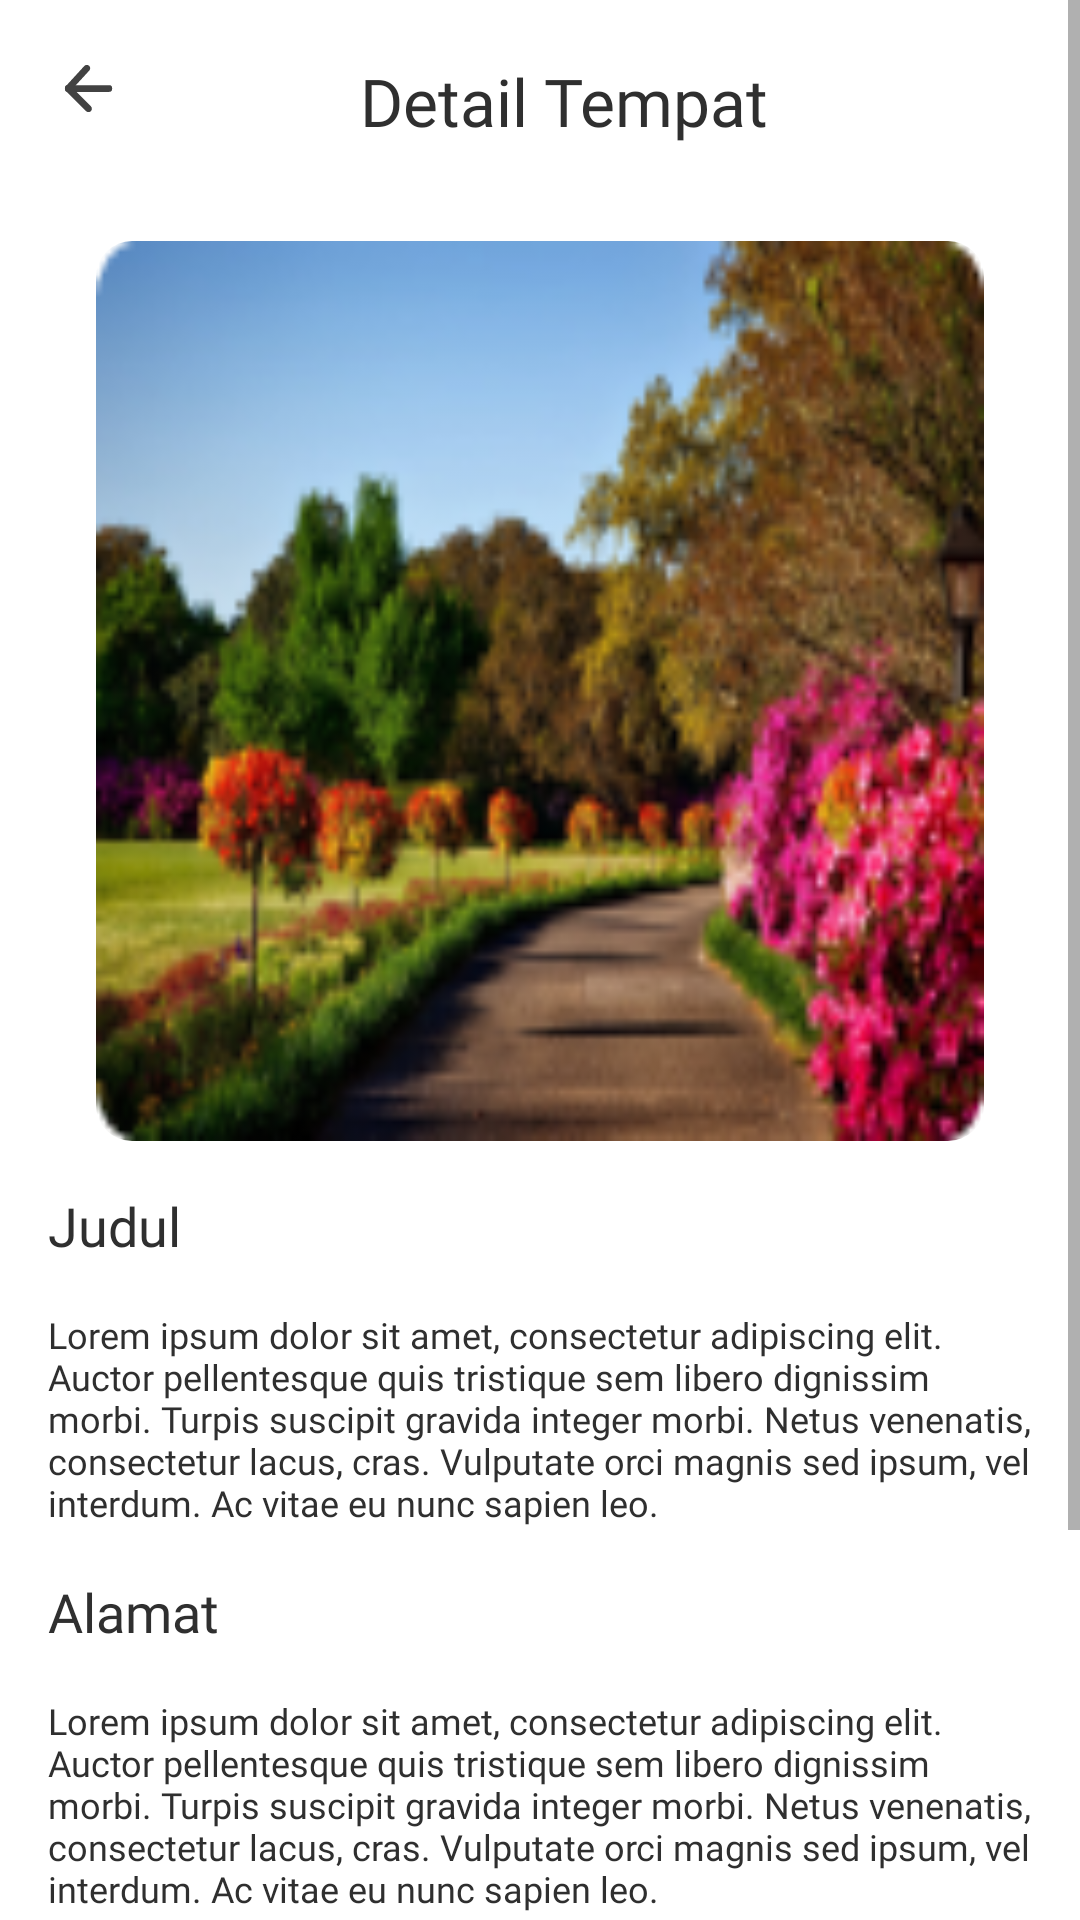

Screen size 1080*1920. Icon name, then its box in pixels as (x1, y1, x2, y2):
Icon of back button: (65, 65, 113, 112)
